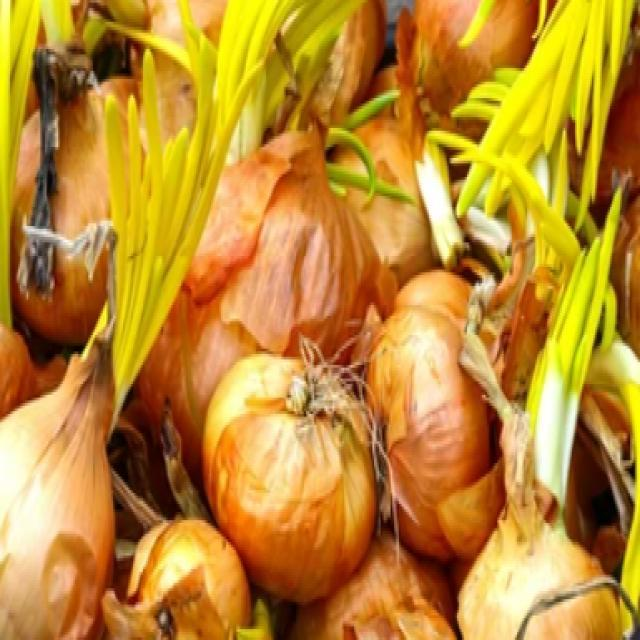rotten: (232, 422, 344, 542), (35, 57, 53, 278)
sprouting: (112, 139, 152, 422), (522, 294, 570, 528)
